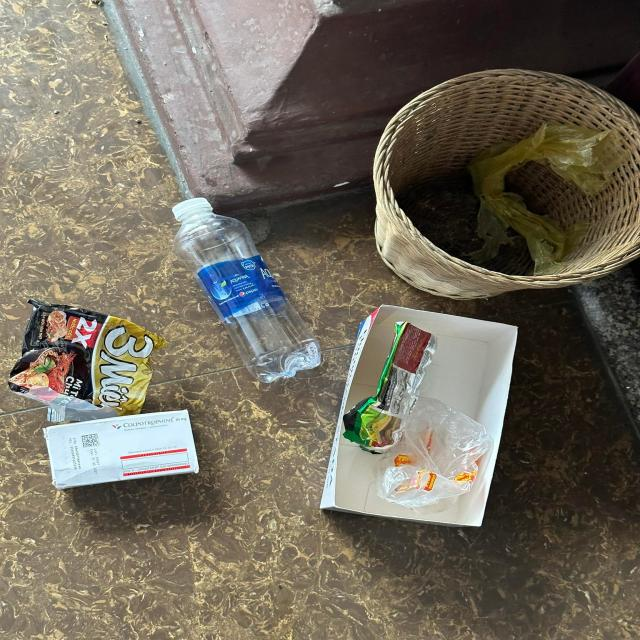bottle: (172, 198, 319, 384)
cardboard box: (319, 304, 516, 527), (44, 409, 200, 488)
snack package: (9, 298, 159, 415)
